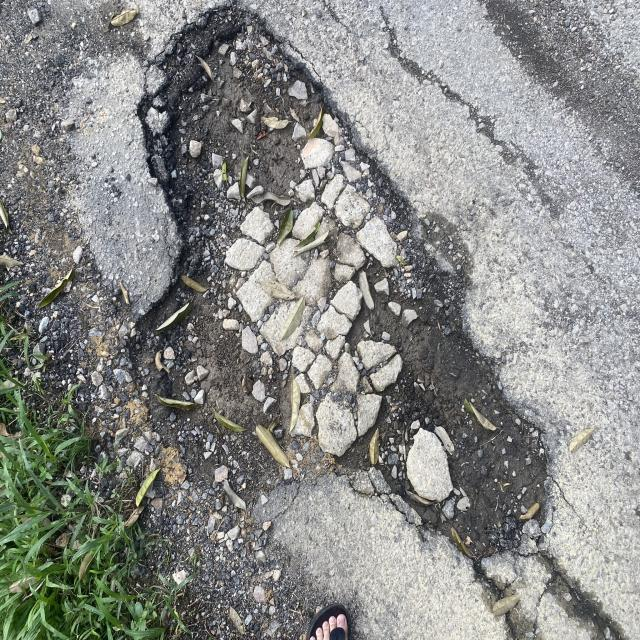pothole: (90, 0, 294, 485)
